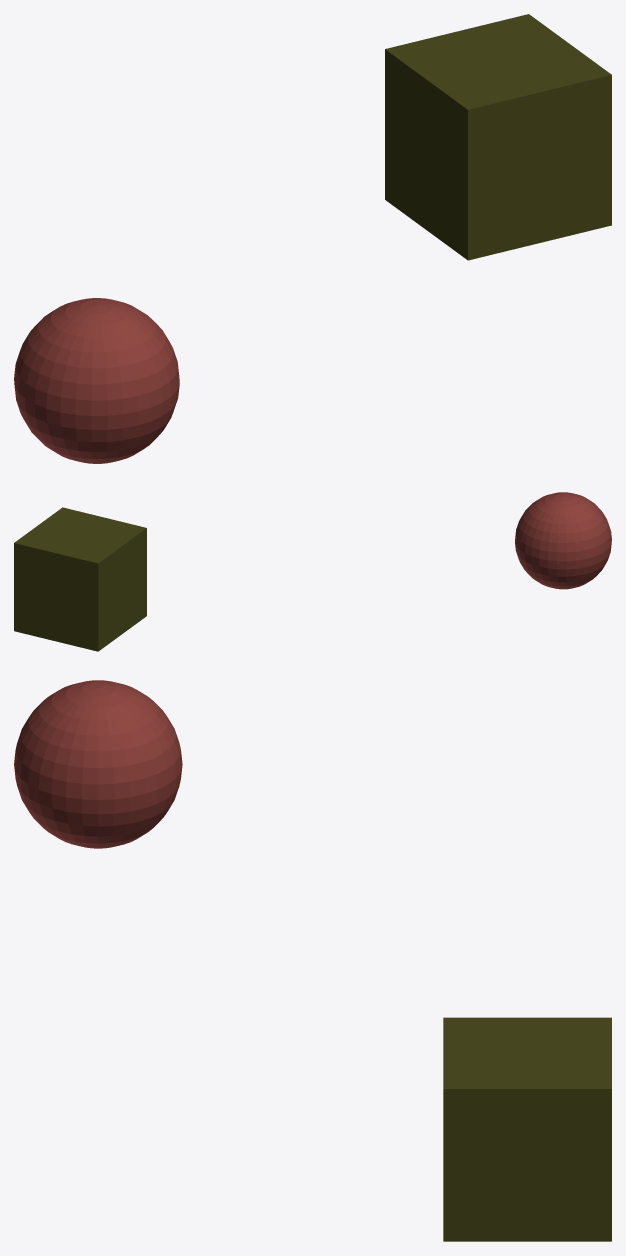
The picture shows the model from 3 angles, top to bottom: view 1: azimuth 30°, elevation 25°; view 2: azimuth 150°, elevation 25°; view 3: azimuth 270°, elevation 25°; orthographic projection. The views are drawn at different scales.
Visible parts, largest first — view 1: Cube, Ball; view 2: Cube, Ball; view 3: Cube, Ball.
Part boxes in pixels (x1,y1,x2,y2): Cube: (385,14,611,260); Ball: (14,298,179,463); Cube: (14,507,146,651); Ball: (515,492,611,589); Cube: (443,1017,611,1241); Ball: (14,680,182,848).
Size of the model in its own units: 10.52 by 2.81 by 7.09.
